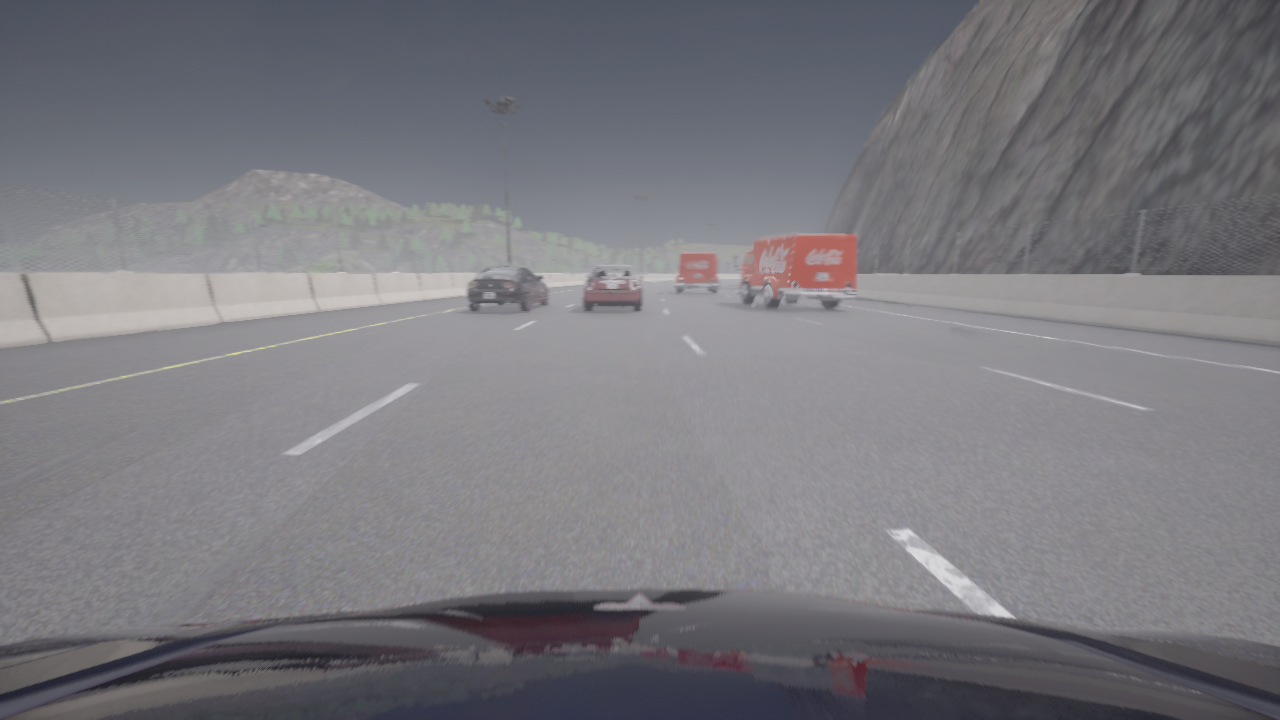cyclist: (0, 588, 1279, 719), (734, 234, 857, 308), (466, 265, 548, 311), (583, 265, 644, 311), (675, 252, 719, 293)
